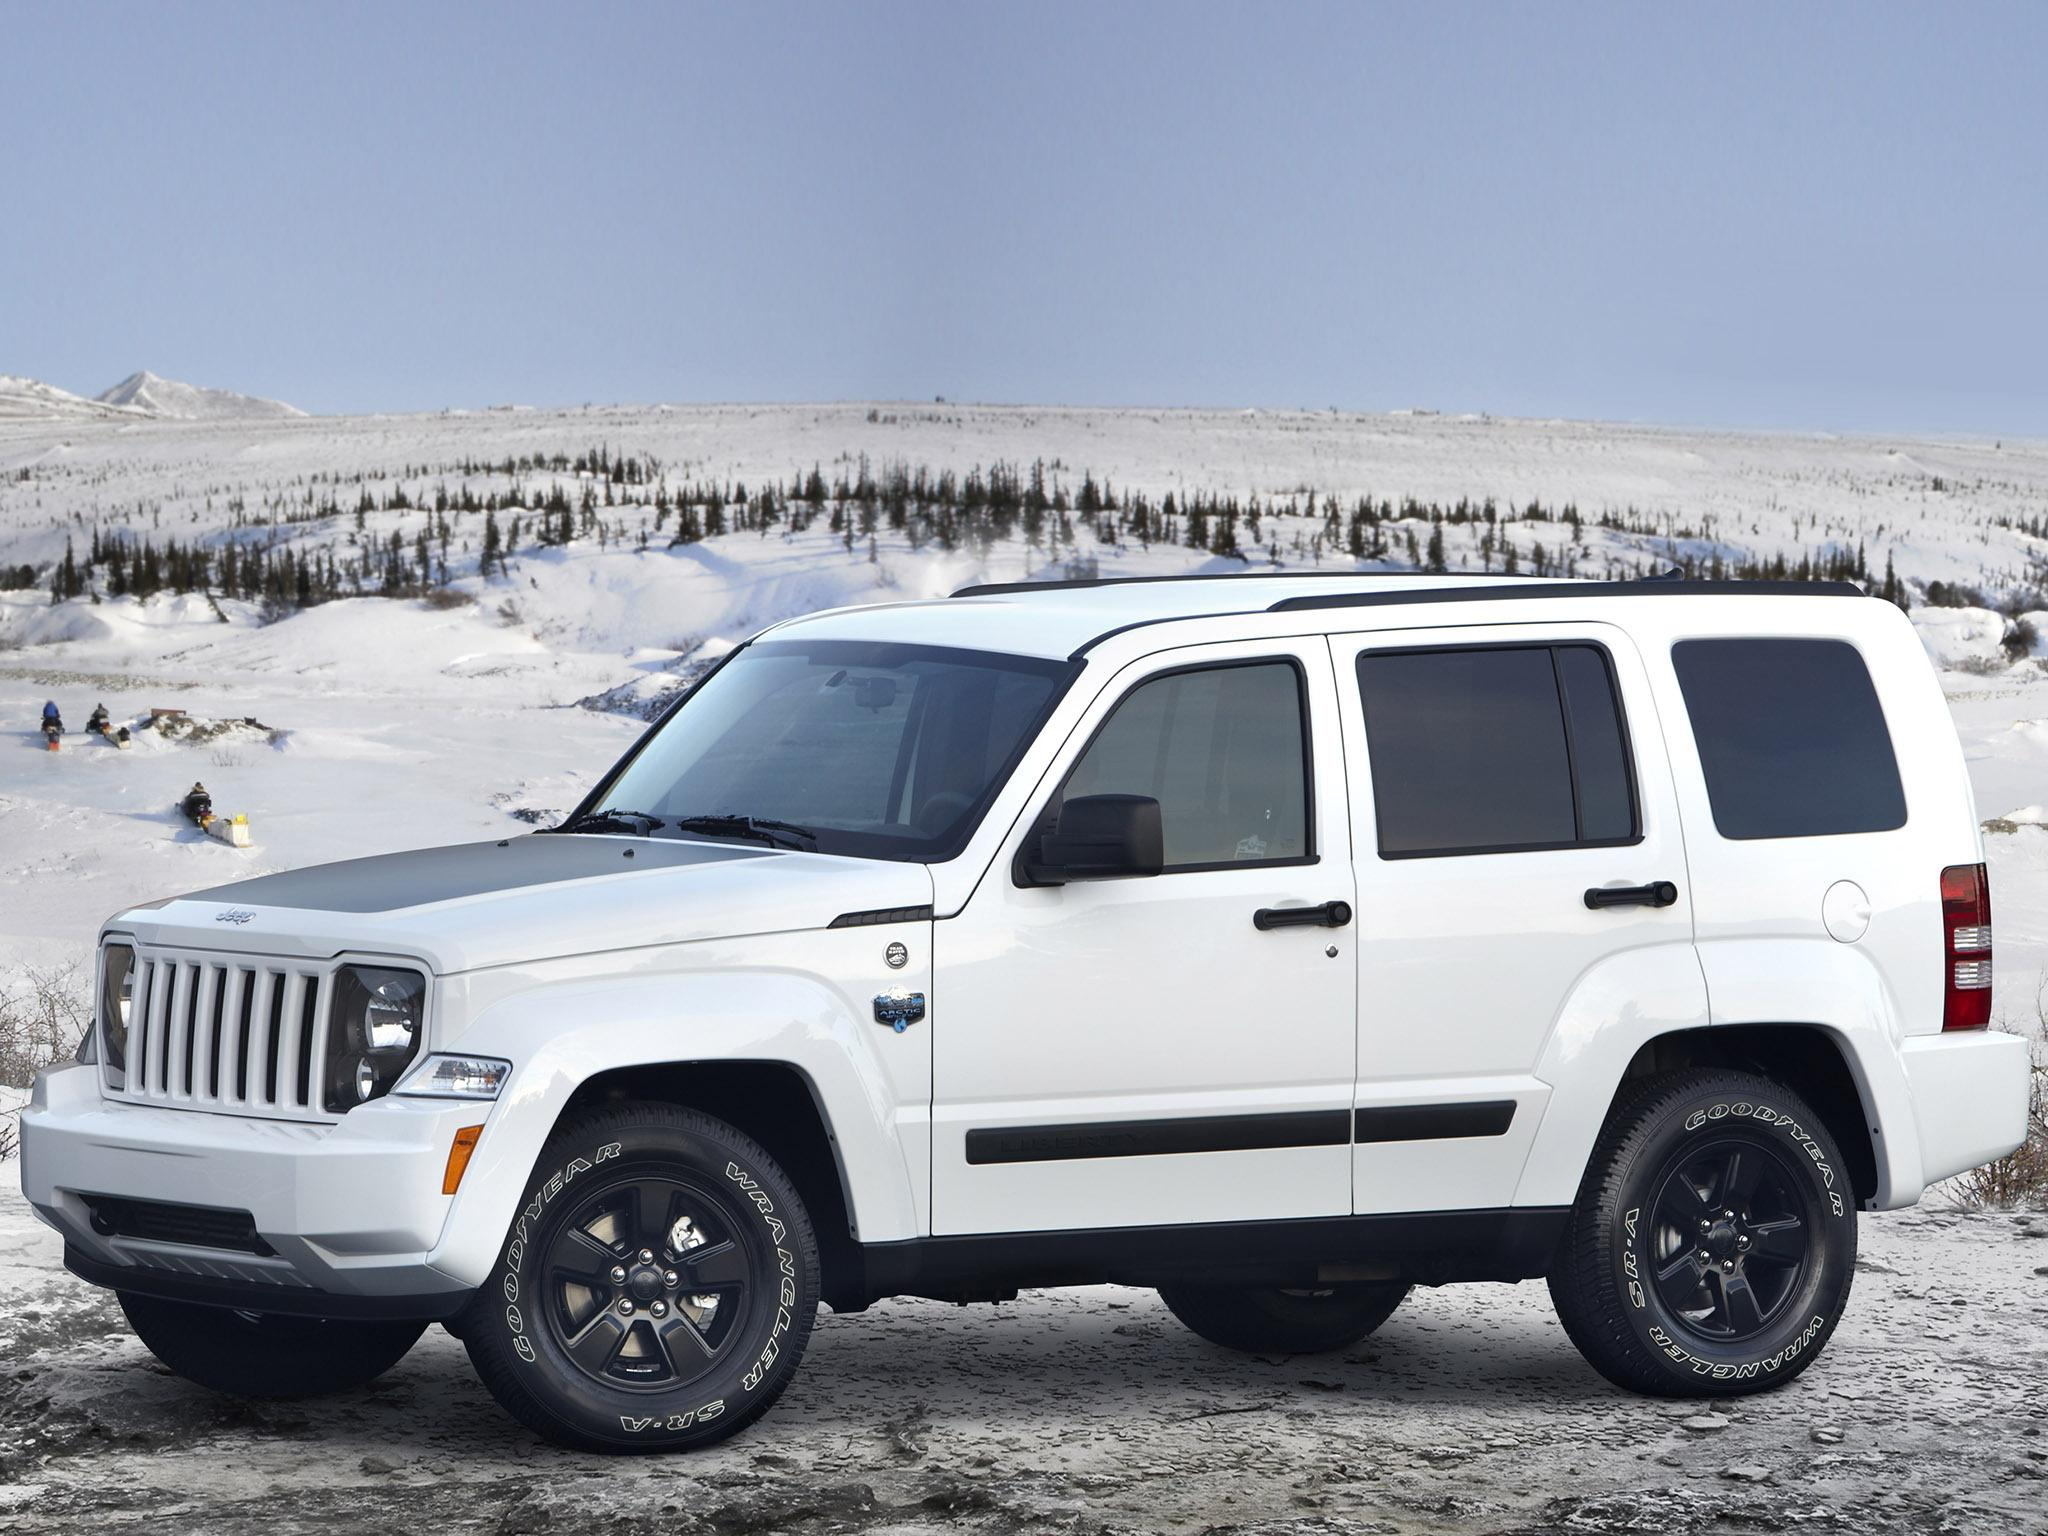jeep: (189, 894, 277, 945)
